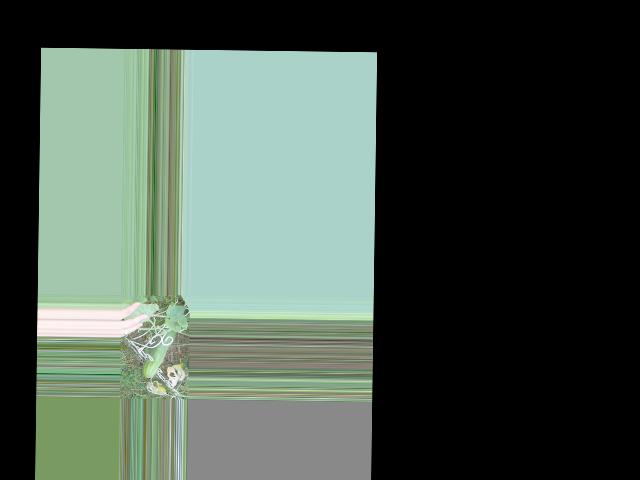cucumber: (141, 329, 175, 378)
